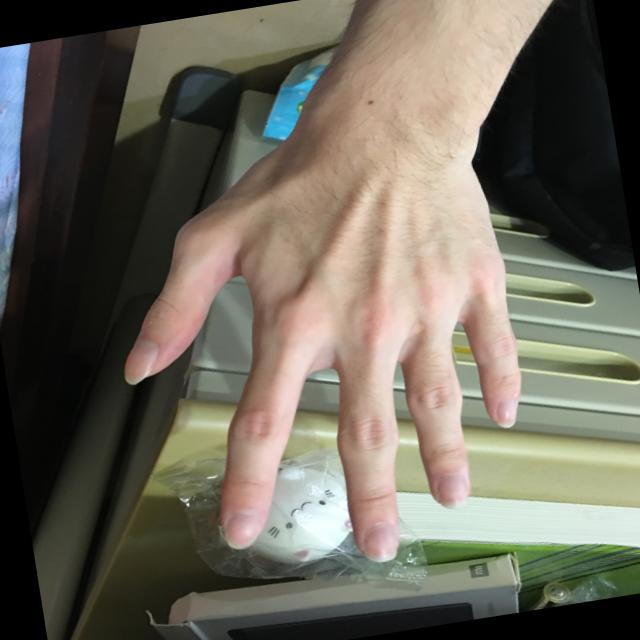Nail: (122, 336, 158, 384), (222, 512, 261, 550), (363, 525, 397, 561), (437, 473, 468, 508), (496, 399, 516, 427)
